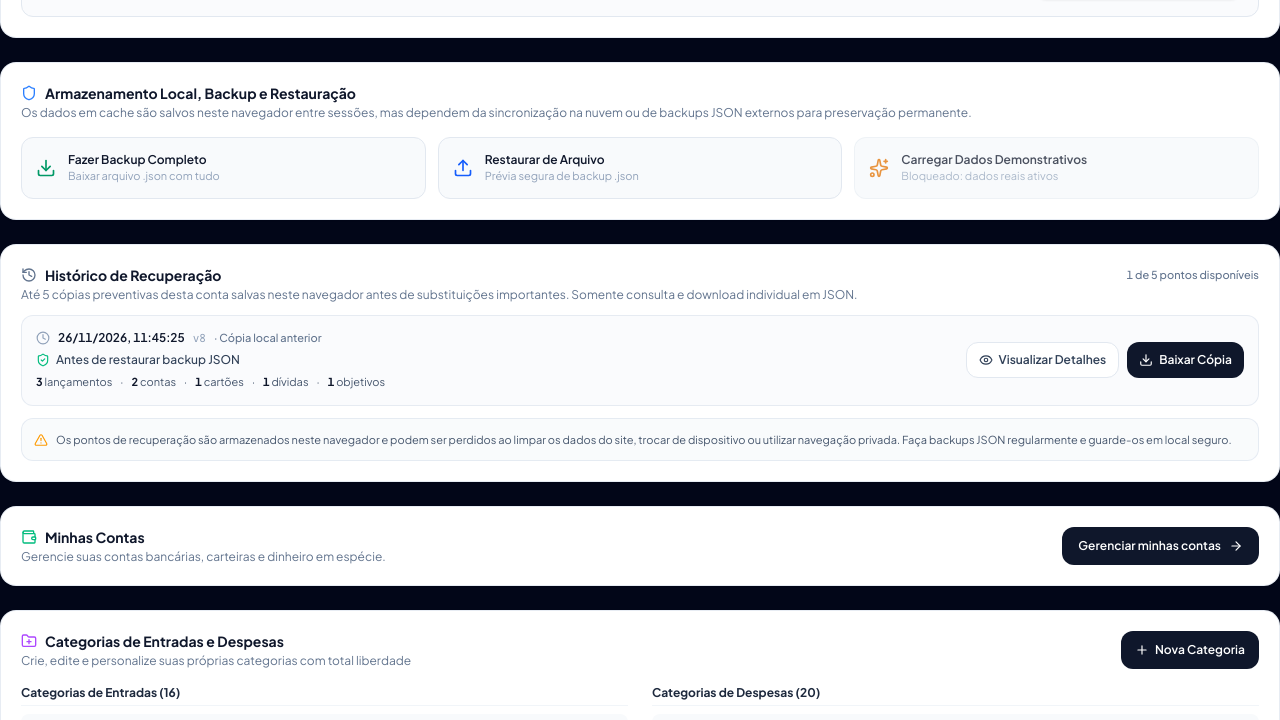
Teste de Componente UI (Isolado): SettingsView — Ponto de Recuperação Local › 1 e 2. Exibe data, motivo e contagens do snapshot válido e abre/fecha modal "Visualizar Detalhes" sem botão de restaurar
(page scrolled)
Clica em "Visualizar Detalhes"
Click the button "Visualizar Detalhes" at (1042, 360), box [966,342,1119,378]
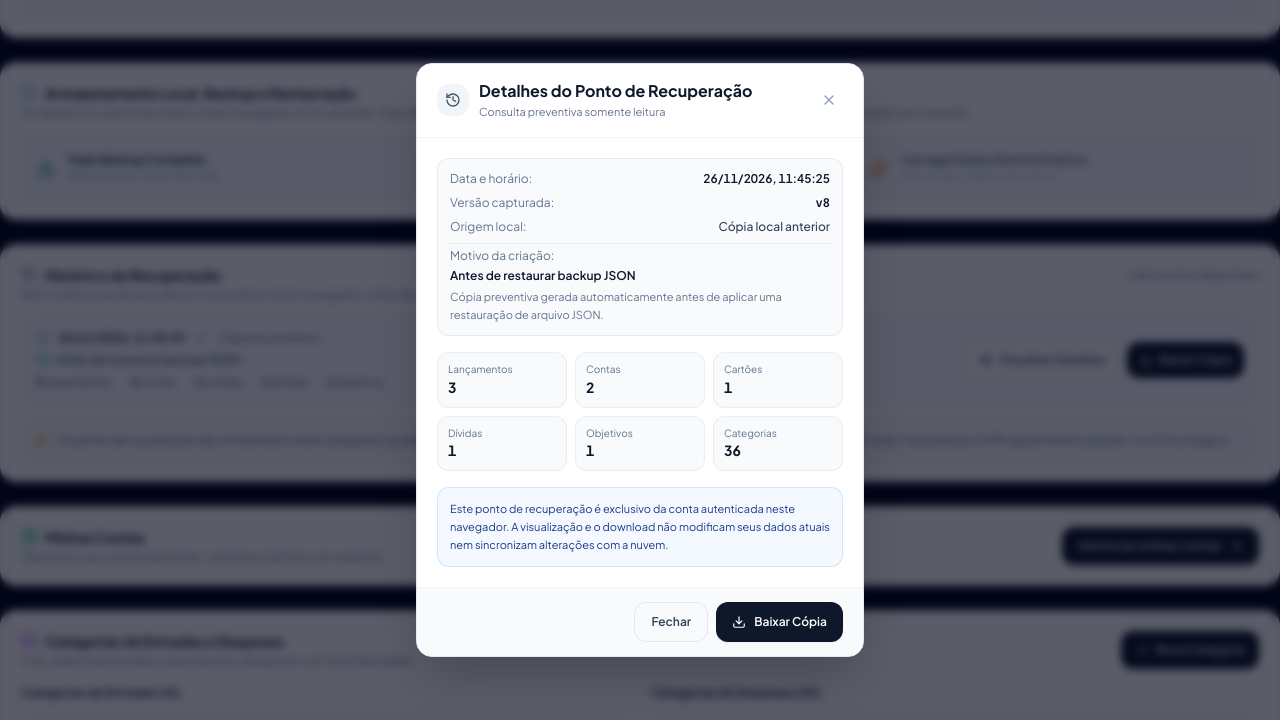
Expected: the dialog is shown
Fecha o modal
Click the button "Fechar" at (671, 622), box [634,602,708,642]
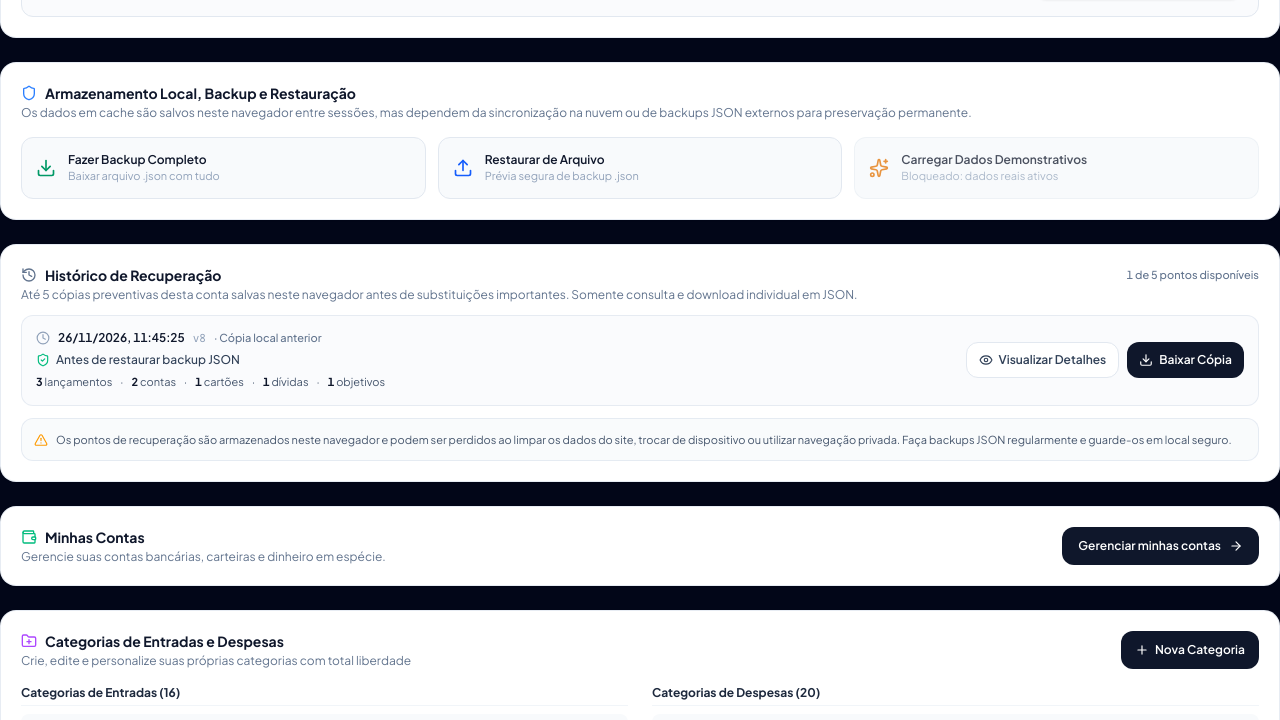
Expected: the heading "Detalhes do Ponto de Recuperação" is gone
